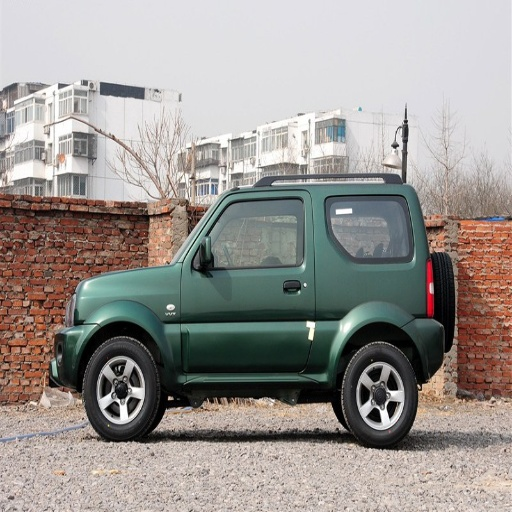back_left_door: (270, 191, 313, 368)
trunk: (311, 260, 428, 371)
